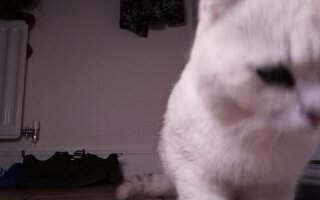bad: (157, 2, 318, 199)
